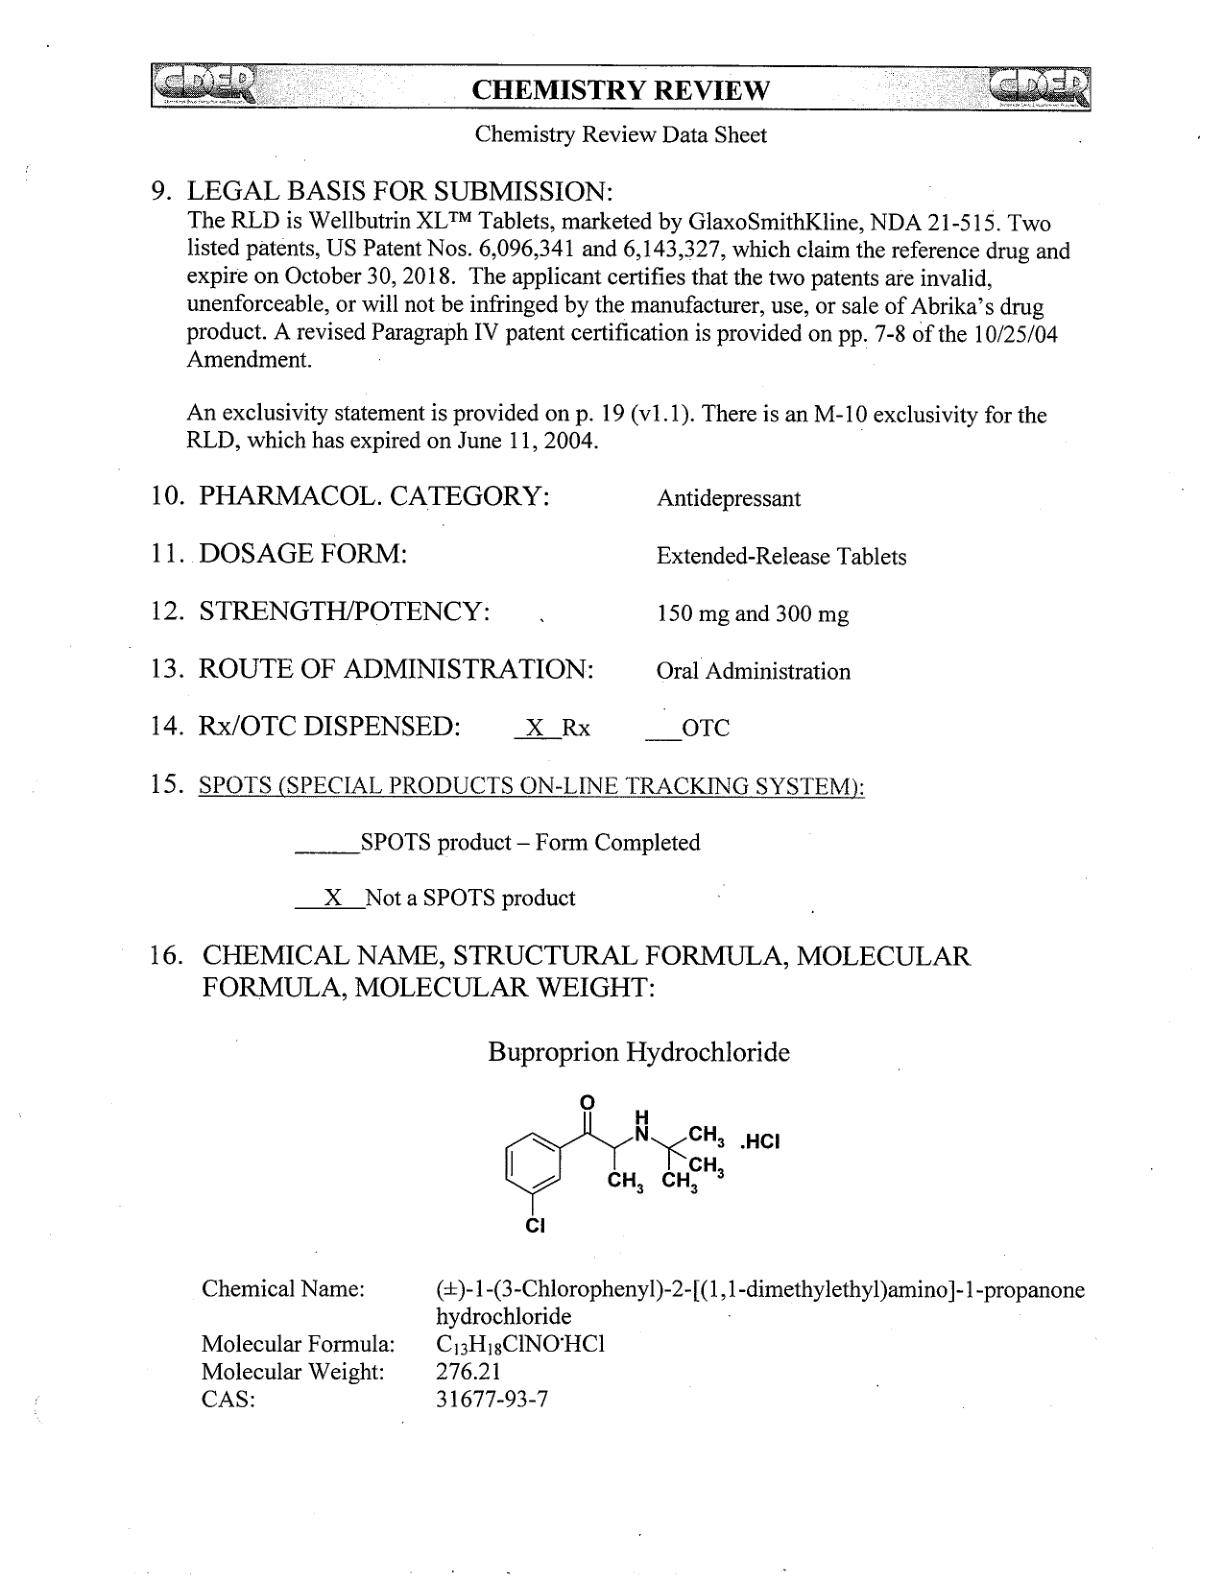nolines: (148, 474, 920, 749), (197, 1269, 1090, 1416)
